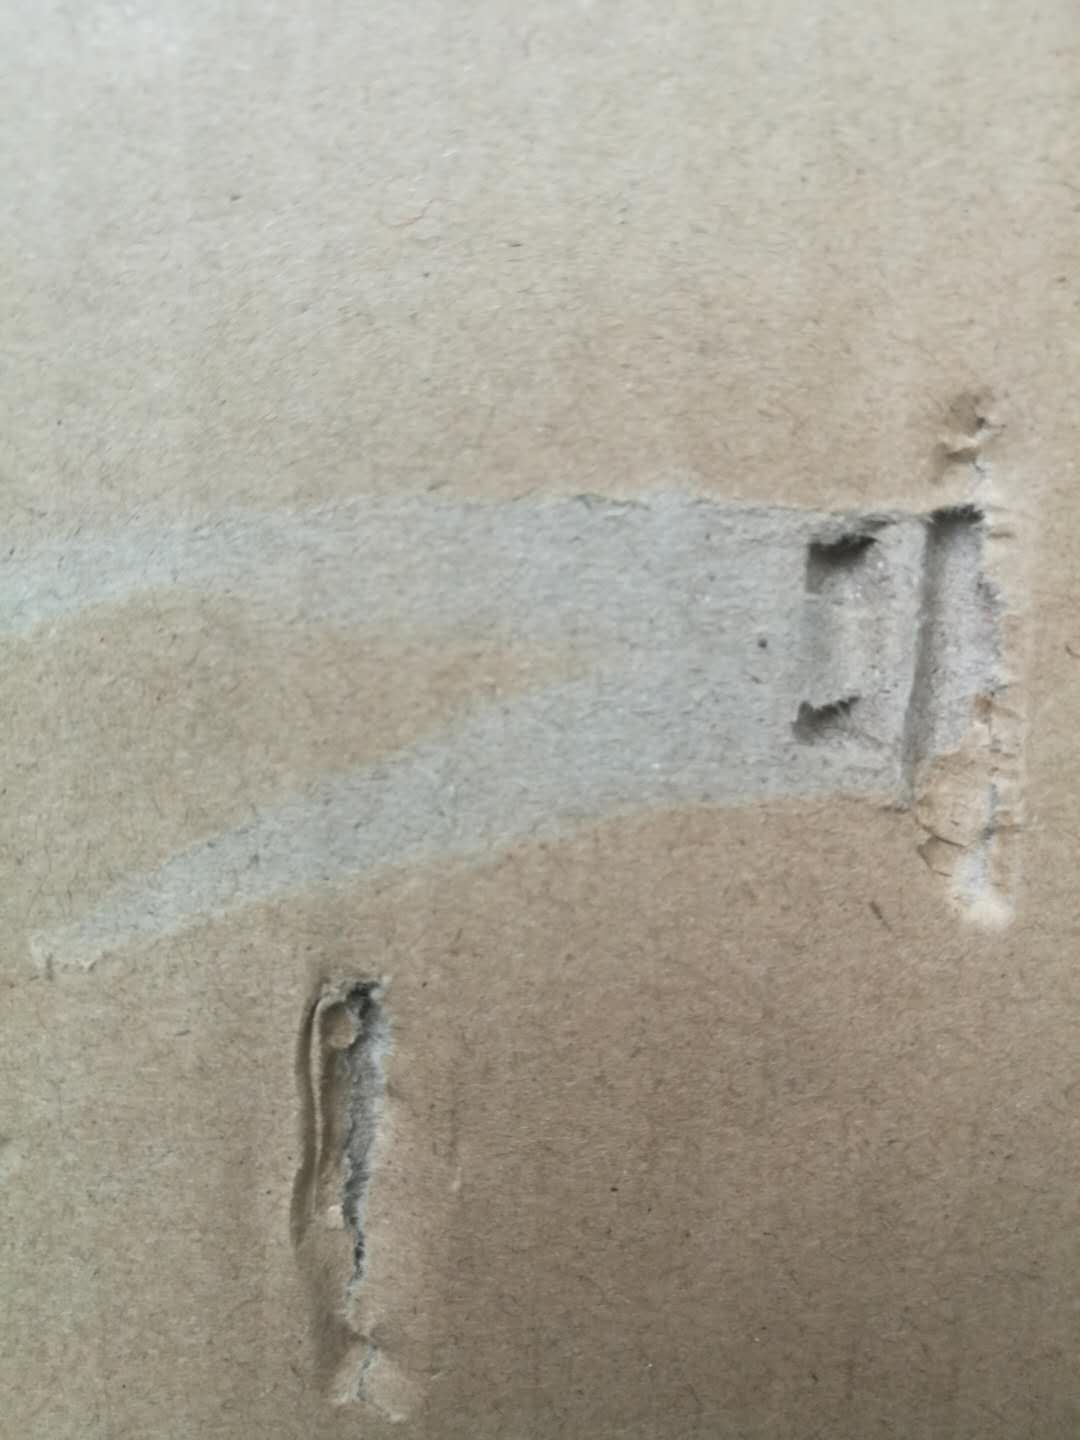defect: (1, 344, 1079, 1013), (255, 945, 495, 1439)
